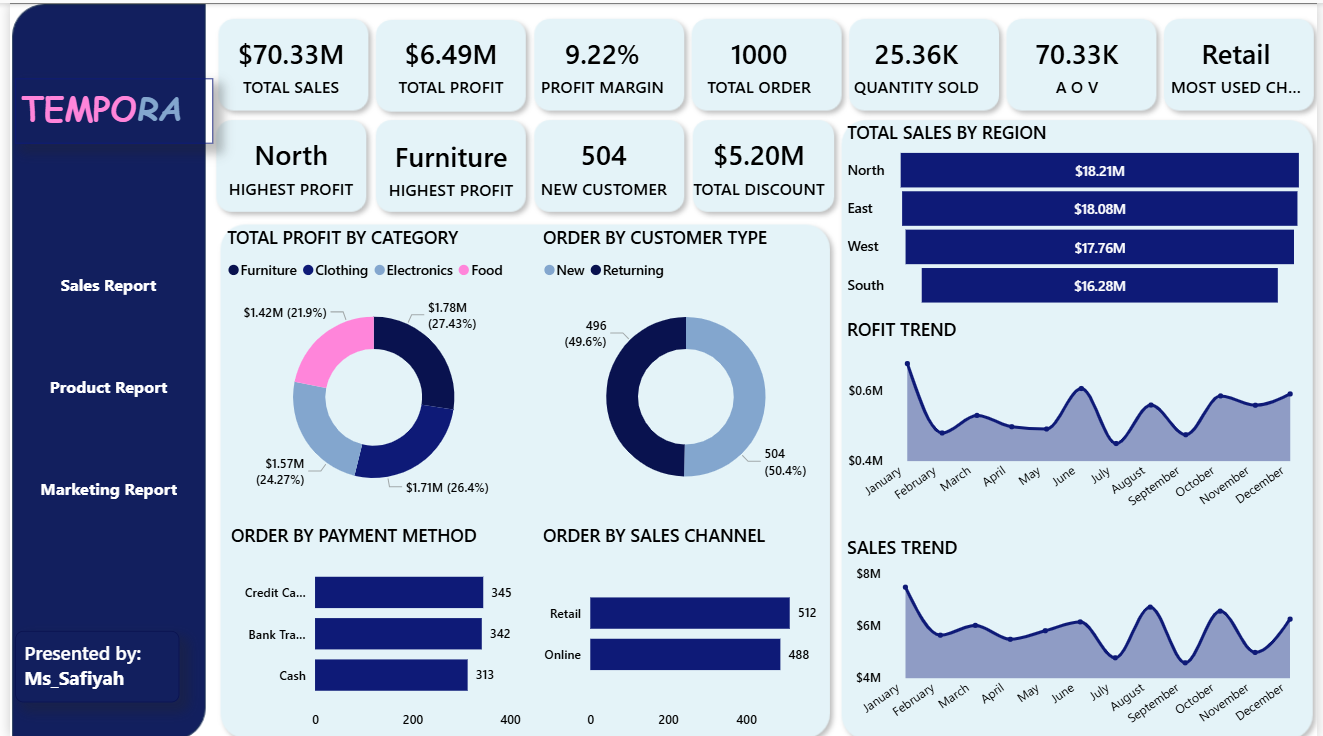

What the dashboard file says about the page in this screenshot:
{"tool":"powerbi","page":{"name":"Overview","canvas":[1280,720],"ordinal":3},"visuals":[{"type":"pageNavigator","box":[5.1,230.4,183.3,290.3],"z":0},{"type":"lineChart","title":"SALES TREND","fields":{"Category":["sales_data.Sale_Date.Variation.Date Hierarchy.Month"],"Y":["Sum(sales_data.Sales_Price)"]},"box":[814.8,520.4,457.1,200.2],"z":1000},{"type":"lineChart","title":"ROFIT TREND","fields":{"Category":["sales_data.Sale_Date.Variation.Date Hierarchy.Month"],"Y":["Sum(sales_data.Profit)"]},"box":[814.8,308.6,457.1,200.2],"z":2000},{"type":"card","fields":{"Values":["Sum(sales_data.Sales_Price)"]},"box":[202.4,15.3,145.1,90.4],"z":3000},{"type":"card","fields":{"Values":["Sum(sales_data.Profit)"]},"box":[359,15.3,145.1,90.4],"z":4000},{"type":"card","fields":{"Values":["sales_data.Profit Margin %"]},"box":[507.9,15.3,143.9,90.4],"z":5000},{"type":"donutChart","title":"TOTAL PROFIT BY CATEGORY","fields":{"Category":["sales_data.Product_Category"],"Y":["Sum(sales_data.Profit)"]},"box":[207.5,217.7,296.6,283.9],"z":6000},{"type":"donutChart","title":"ORDER BY  CUSTOMER TYPE","fields":{"Category":["sales_data.Customer_Type"],"Y":["CountNonNull(sales_data.Product_ID)"]},"box":[516.5,218.2,289.3,282.8],"z":7000},{"type":"funnel","title":"TOTAL SALES BY REGION","fields":{"Category":["sales_data.Region"],"Y":["Sum(sales_data.Sales_Price)"]},"box":[814.7,114.6,457,187.1],"z":8000},{"type":"clusteredBarChart","title":"ORDER BY SALES CHANNEL","fields":{"Category":["sales_data.Sales_Channel"],"Y":["CountNonNull(sales_data.Product_ID)"]},"box":[516.5,508.8,289.3,211.8],"z":9000},{"type":"clusteredBarChart","title":"ORDER BY PAYMENT METHOD","fields":{"Category":["sales_data.Payment_Method"],"Y":["CountNonNull(sales_data.Product_ID)"]},"box":[211.8,508.8,295.7,211.8],"z":10000},{"type":"card","fields":{"Values":["Min(sales_data.Product_Category)"]},"box":[359,115.8,145.1,90.4],"z":11000},{"type":"card","fields":{"Values":["CountNonNull(sales_data.Customer_Type)"]},"box":[509.2,114.6,143.9,90.4],"z":12000},{"type":"card","fields":{"Values":["Min(sales_data.Region)"]},"box":[202.4,114.6,145.1,90.4],"z":13000},{"type":"card","fields":{"Values":["sales_data.Average Order Value"]},"box":[972.6,15.3,143.9,90.4],"z":14000},{"type":"card","fields":{"Values":["CountNonNull(sales_data.Product_ID)"]},"box":[660.7,15.3,145.1,90.4],"z":15000},{"type":"card","fields":{"Values":["Sum(sales_data.Quantity_Sold)"]},"box":[814.7,15.3,145.1,90.4],"z":16000},{"type":"card","fields":{"Values":["Sum(sales_data.Discount_price)"]},"box":[660.7,114.6,145.1,90.4],"z":17000},{"type":"card","fields":{"Values":["Min(sales_data.Sales_Channel)"]},"box":[1127.3,15.5,144.6,90.4],"z":18000},{"type":"textbox","box":[5.1,73.8,194,63.7],"z":19000},{"type":"textbox","box":[5.1,614.9,160.4,70],"z":20000}]}

Visuals, with their boxes in screenshot pixels (x1, y1, x2, y2), scaled from the page's 1280x720 canvas onto the 1323x736 screenshot:
pageNavigator: x1=5, y1=236, x2=195, y2=532
"SALES TREND" lineChart: x1=842, y1=532, x2=1315, y2=735
"ROFIT TREND" lineChart: x1=842, y1=315, x2=1315, y2=520
card - Sum(sales_data.Sales_Price): x1=209, y1=16, x2=359, y2=108
card - Sum(sales_data.Profit): x1=371, y1=16, x2=521, y2=108
card - sales_data.Profit Margin %: x1=525, y1=16, x2=674, y2=108
"TOTAL PROFIT BY CATEGORY" donutChart: x1=214, y1=223, x2=521, y2=513
"ORDER BY  CUSTOMER TYPE" donutChart: x1=534, y1=223, x2=833, y2=512
"TOTAL SALES BY REGION" funnel: x1=842, y1=117, x2=1314, y2=308
"ORDER BY SALES CHANNEL" clusteredBarChart: x1=534, y1=520, x2=833, y2=735
"ORDER BY PAYMENT METHOD" clusteredBarChart: x1=219, y1=520, x2=525, y2=735
card - Min(sales_data.Product_Category): x1=371, y1=118, x2=521, y2=211
card - CountNonNull(sales_data.Customer_Type): x1=526, y1=117, x2=675, y2=210
card - Min(sales_data.Region): x1=209, y1=117, x2=359, y2=210
card - sales_data.Average Order Value: x1=1005, y1=16, x2=1154, y2=108
card - CountNonNull(sales_data.Product_ID): x1=683, y1=16, x2=833, y2=108
card - Sum(sales_data.Quantity_Sold): x1=842, y1=16, x2=992, y2=108
card - Sum(sales_data.Discount_price): x1=683, y1=117, x2=833, y2=210
card - Min(sales_data.Sales_Channel): x1=1165, y1=16, x2=1315, y2=108
textbox: x1=5, y1=75, x2=206, y2=141
textbox: x1=5, y1=629, x2=171, y2=700
